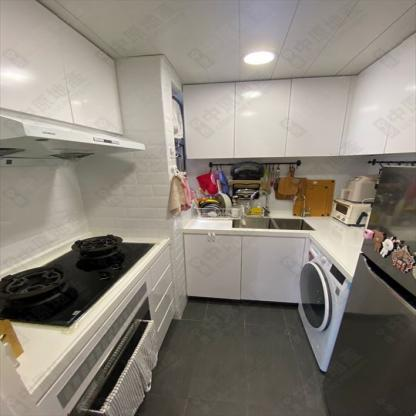Cupboard: (183, 30, 415, 159), (183, 229, 306, 305)
Exhaust Hood: (0, 114, 145, 168)
Fridge: (322, 165, 415, 415)
Oven: (55, 285, 159, 415)
Sink: (230, 219, 314, 230)
Stove: (5, 234, 157, 328)
Washing Machine: (295, 241, 351, 373)
